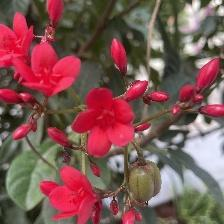jatropha: (71, 88, 137, 158)
